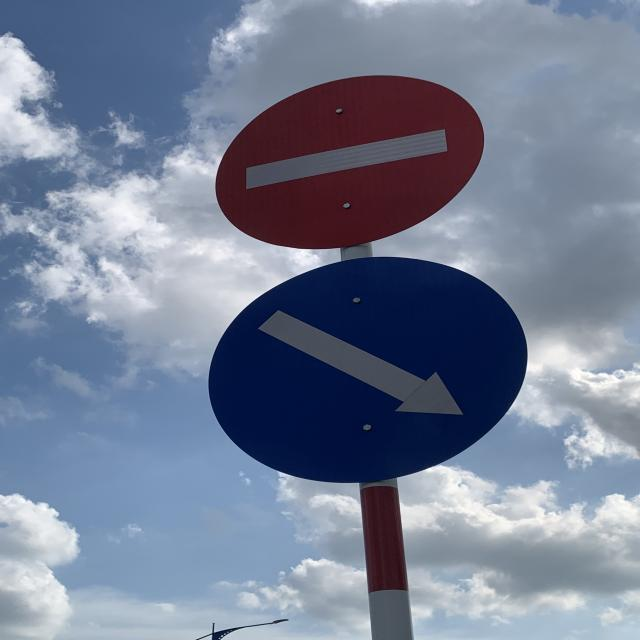Cam_Di_Nguoc_Chieu: (214, 74, 490, 248)
Chi_Huong_Di_Phai: (209, 260, 531, 486)
